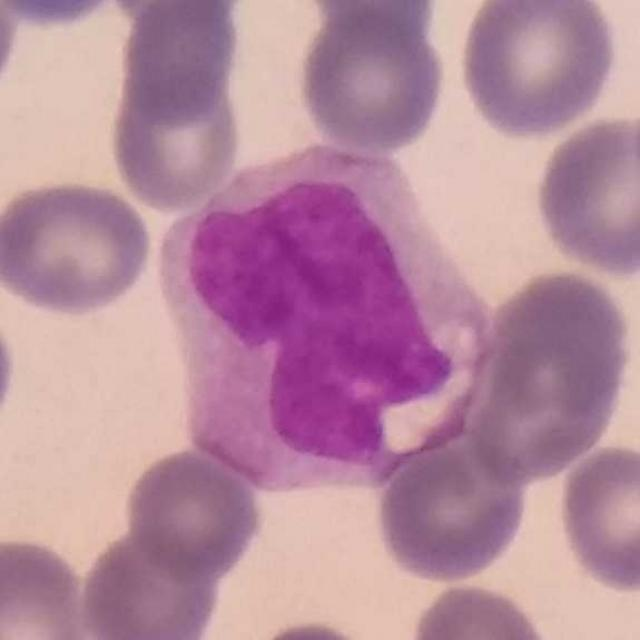mono: (155, 127, 500, 497)
